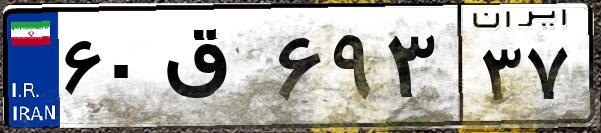0: (110, 28, 158, 98)
3: (385, 28, 445, 110), (475, 38, 525, 113)
6: (270, 28, 330, 110), (57, 26, 110, 100)
7: (525, 38, 570, 115)
9: (330, 28, 385, 110)
ق: (158, 20, 270, 120)
